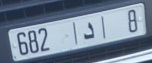2: (38, 26, 49, 54)
8: (15, 31, 29, 56), (127, 8, 138, 35), (29, 29, 37, 56)
d: (79, 20, 98, 42)
